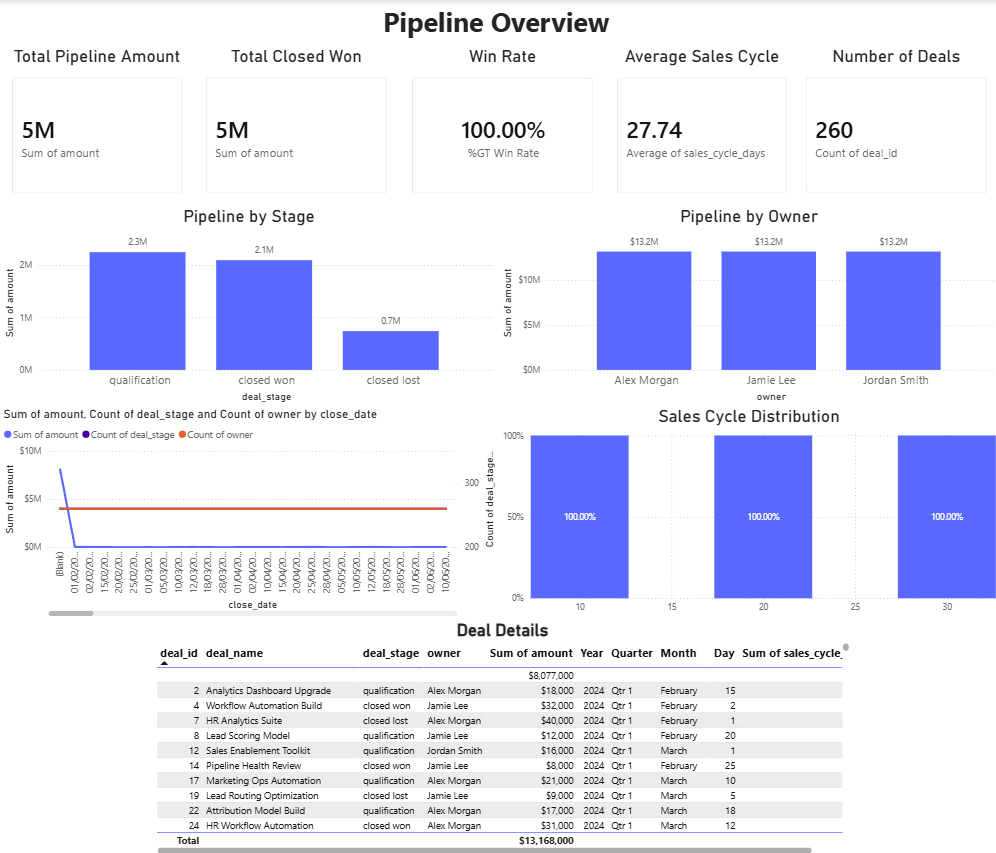

This screenshot's page, from the dashboard's own definition file:
{"tool":"powerbi","page":{"name":"Pipeline Overview","canvas":[1400,1200],"ordinal":0},"visuals":[{"type":"cardVisual","title":"Total Pipeline Amount","fields":{"Data":["Sum(deals_clean.amount)"]},"box":[0,0,279.5,279.5],"z":0},{"type":"cardVisual","title":"Total Closed Won","fields":{"Data":["Sum(deals_clean.amount)"]},"box":[279.5,0,279.5,279.5],"z":1000},{"type":"cardVisual","title":"Win Rate","fields":{"Data":["contacts_clean.Win Rate"]},"box":[558.9,0,286.1,279.5],"z":2000},{"type":"cardVisual","title":"Average Sales Cycle","fields":{"Data":["Avg(pipeline_model.sales_cycle_days)"]},"box":[845.1,0,276.1,279.5],"z":3000},{"type":"cardVisual","title":"Number of Deals","fields":{"Data":["CountNonNull(deals_clean.deal_id)"]},"box":[1121.2,0,279.5,279.5],"z":4000},{"type":"clusteredColumnChart","title":"Pipeline by Stage","fields":{"Category":["deals_clean.deal_stage"],"Y":["Sum(deals_clean.amount)"]},"box":[0,289.5,698.7,279.5],"z":5000},{"type":"clusteredColumnChart","title":"Pipeline by Owner","fields":{"Category":["contacts_clean.owner"],"Y":["Sum(pipeline_model.amount)"]},"box":[698.7,289.5,702,279.5],"z":6000},{"type":"hundredPercentStackedColumnChart","title":"Sales Cycle Distribution","fields":{"Y":["CountNonNull(pipeline_model.deal_id)"],"Category":["pipeline_model.sales_cycle_days (bins)"]},"box":[698.7,568.9,702,299.4],"z":7000},{"type":"tableEx","title":"Deal Details","fields":{"Values":["deals_clean.deal_id","deals_clean.deal_name","deals_clean.deal_stage","deals_clean.owner","Sum(pipeline_model.amount)","pipeline_model.close_date.Variation.Date Hierarchy.Year","pipeline_model.close_date.Variation.Date Hierarchy.Quarter","pipeline_model.close_date.Variation.Date Hierarchy.Month","pipeline_model.close_date.Variation.Date Hierarchy.Day","Sum(pipeline_model.sales_cycle_days)"]},"box":[212.9,868.4,981.5,332.7],"z":8000},{"type":"lineChart","fields":{"Category":["pipeline_model.close_date"],"Y":["Sum(pipeline_model.amount)"],"Y2":["CountNonNull(deals_clean.deal_stage)","CountNonNull(deals_clean.owner)"]},"box":[0,568.9,698.7,299.4],"z":9000}]}

Visuals, with their boxes in screenshot pixels (x1, y1, x2, y2), scaled from the page's 1400x1200 canvas onto the 996x853 screenshot:
"Total Pipeline Amount" cardVisual: {"x1": 0, "y1": 0, "x2": 199, "y2": 199}
"Total Closed Won" cardVisual: {"x1": 199, "y1": 0, "x2": 398, "y2": 199}
"Win Rate" cardVisual: {"x1": 398, "y1": 0, "x2": 601, "y2": 199}
"Average Sales Cycle" cardVisual: {"x1": 601, "y1": 0, "x2": 798, "y2": 199}
"Number of Deals" cardVisual: {"x1": 798, "y1": 0, "x2": 995, "y2": 199}
"Pipeline by Stage" clusteredColumnChart: {"x1": 0, "y1": 206, "x2": 497, "y2": 404}
"Pipeline by Owner" clusteredColumnChart: {"x1": 497, "y1": 206, "x2": 995, "y2": 404}
"Sales Cycle Distribution" hundredPercentStackedColumnChart: {"x1": 497, "y1": 404, "x2": 995, "y2": 617}
"Deal Details" tableEx: {"x1": 151, "y1": 617, "x2": 850, "y2": 852}
lineChart - pipeline_model.close_date x Sum(pipeline_model.amount): {"x1": 0, "y1": 404, "x2": 497, "y2": 617}
